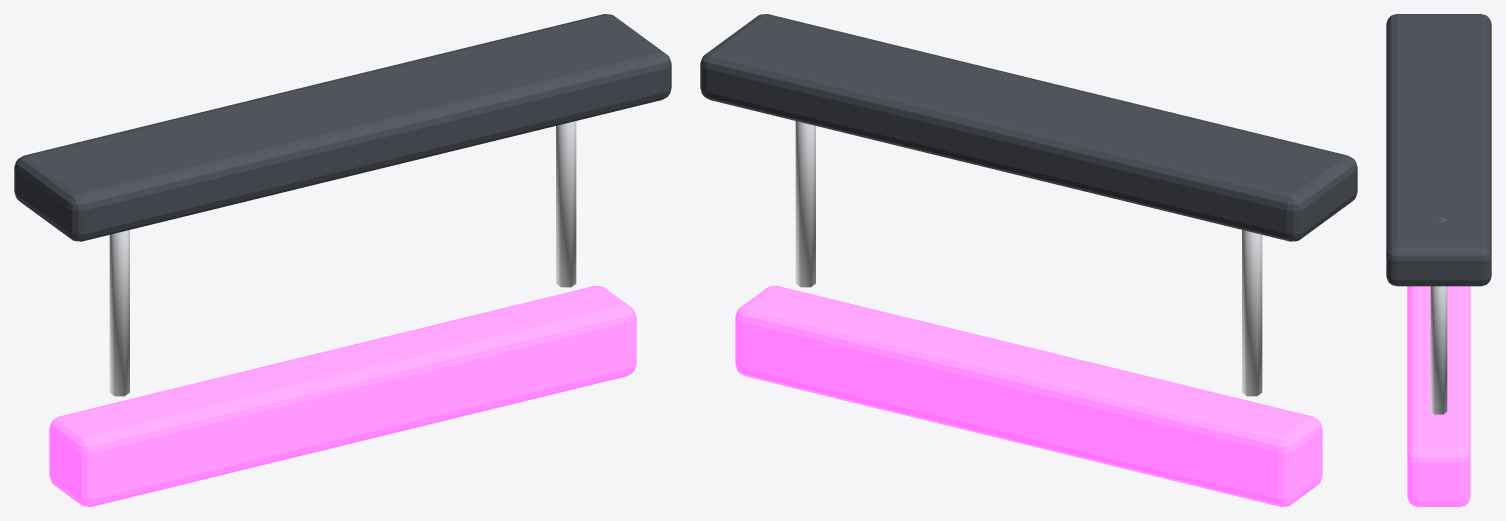
The model's file is ceiling_light_lantern_tube.glb.
3 views of the same model, side by side, from view 1: azimuth 30°, elevation 25°; view 2: azimuth 150°, elevation 25°; view 3: azimuth 270°, elevation 25° (orthographic). The views are drawn at different scales.
Visible parts, largest first — view 1: GD_ceiling_light_lantern_tube__m2, GD_ceiling_light_lantern_tube__m1, GD_ceiling_light_lantern_tube__m0; view 2: GD_ceiling_light_lantern_tube__m2, GD_ceiling_light_lantern_tube__m1, GD_ceiling_light_lantern_tube__m0; view 3: GD_ceiling_light_lantern_tube__m2, GD_ceiling_light_lantern_tube__m1, GD_ceiling_light_lantern_tube__m0.
Boxes of the visible parts, <box> form: GD_ceiling_light_lantern_tube__m2: <box>14,14,671,241</box>; GD_ceiling_light_lantern_tube__m1: <box>49,286,636,506</box>; GD_ceiling_light_lantern_tube__m0: <box>109,121,576,396</box>; GD_ceiling_light_lantern_tube__m2: <box>700,14,1357,241</box>; GD_ceiling_light_lantern_tube__m1: <box>735,286,1322,506</box>; GD_ceiling_light_lantern_tube__m0: <box>795,121,1262,396</box>; GD_ceiling_light_lantern_tube__m2: <box>1386,14,1491,286</box>; GD_ceiling_light_lantern_tube__m1: <box>1407,286,1470,506</box>; GD_ceiling_light_lantern_tube__m0: <box>1430,218,1447,414</box>.
Size of the model in its own units: 0.54 by 0.28 by 0.1.
